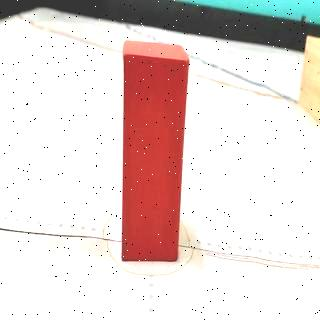redbox: (120, 39, 189, 262)
